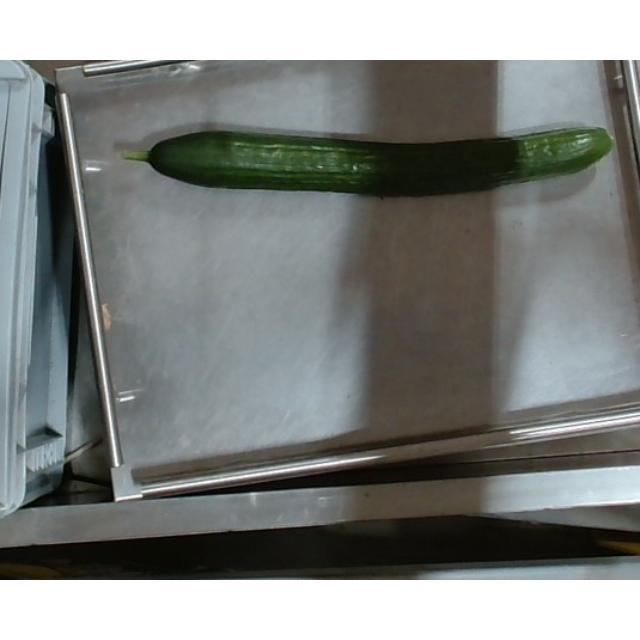cucumber: (126, 120, 618, 196)
